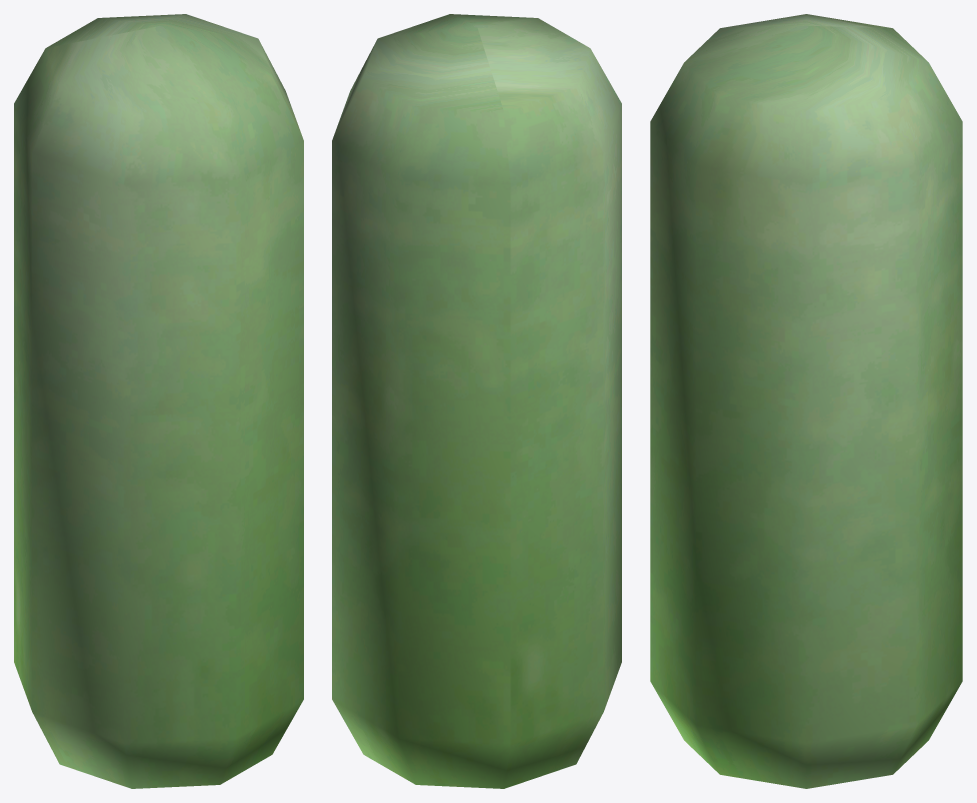
File: shield_player.glb
3 views of the same model, side by side, from view 1: azimuth 30°, elevation 25°; view 2: azimuth 150°, elevation 25°; view 3: azimuth 270°, elevation 25° (orthographic).
Parts seen in each view (by area): view 1: Sphere01; view 2: Sphere01; view 3: Sphere01.
Part boxes in pixels (x1,y1,x2,y2): Sphere01: (14,14,303,788); Sphere01: (332,14,621,788); Sphere01: (650,14,962,788).
Bounding box in the file's own units: 37.94 × 107 × 40.44.
Materials: 1 (1 with a texture image).
